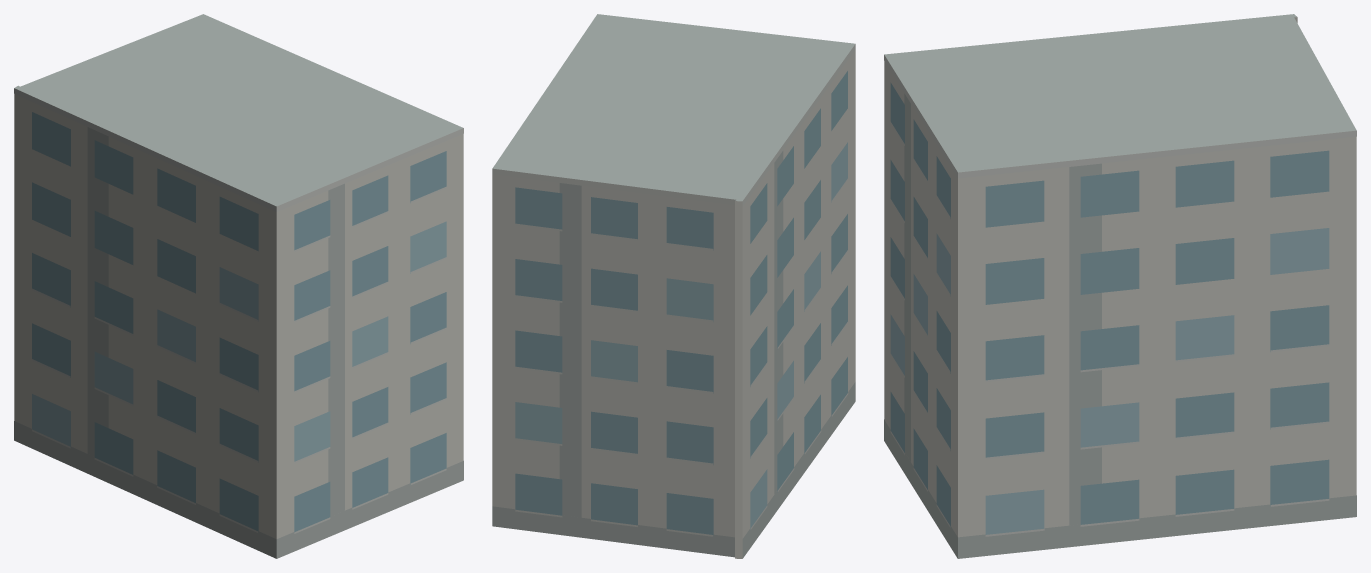
The model's file is survey-upis-32838335.glb.
3 renders of one model, left to right at view 1: azimuth 30°, elevation 25°; view 2: azimuth 150°, elevation 25°; view 3: azimuth 270°, elevation 25°, orthographic. The views are drawn at different scales.
Parts seen in each view (by area): view 1: survey-upis-32838335.tmp; view 2: survey-upis-32838335.tmp; view 3: survey-upis-32838335.tmp.
Boxes of the visible parts, bbox=[...] form: survey-upis-32838335.tmp: bbox=[14, 14, 463, 558]; survey-upis-32838335.tmp: bbox=[492, 14, 855, 558]; survey-upis-32838335.tmp: bbox=[884, 14, 1356, 558].
Size of the model in its own units: 13.43 by 15.25 by 16.92.
